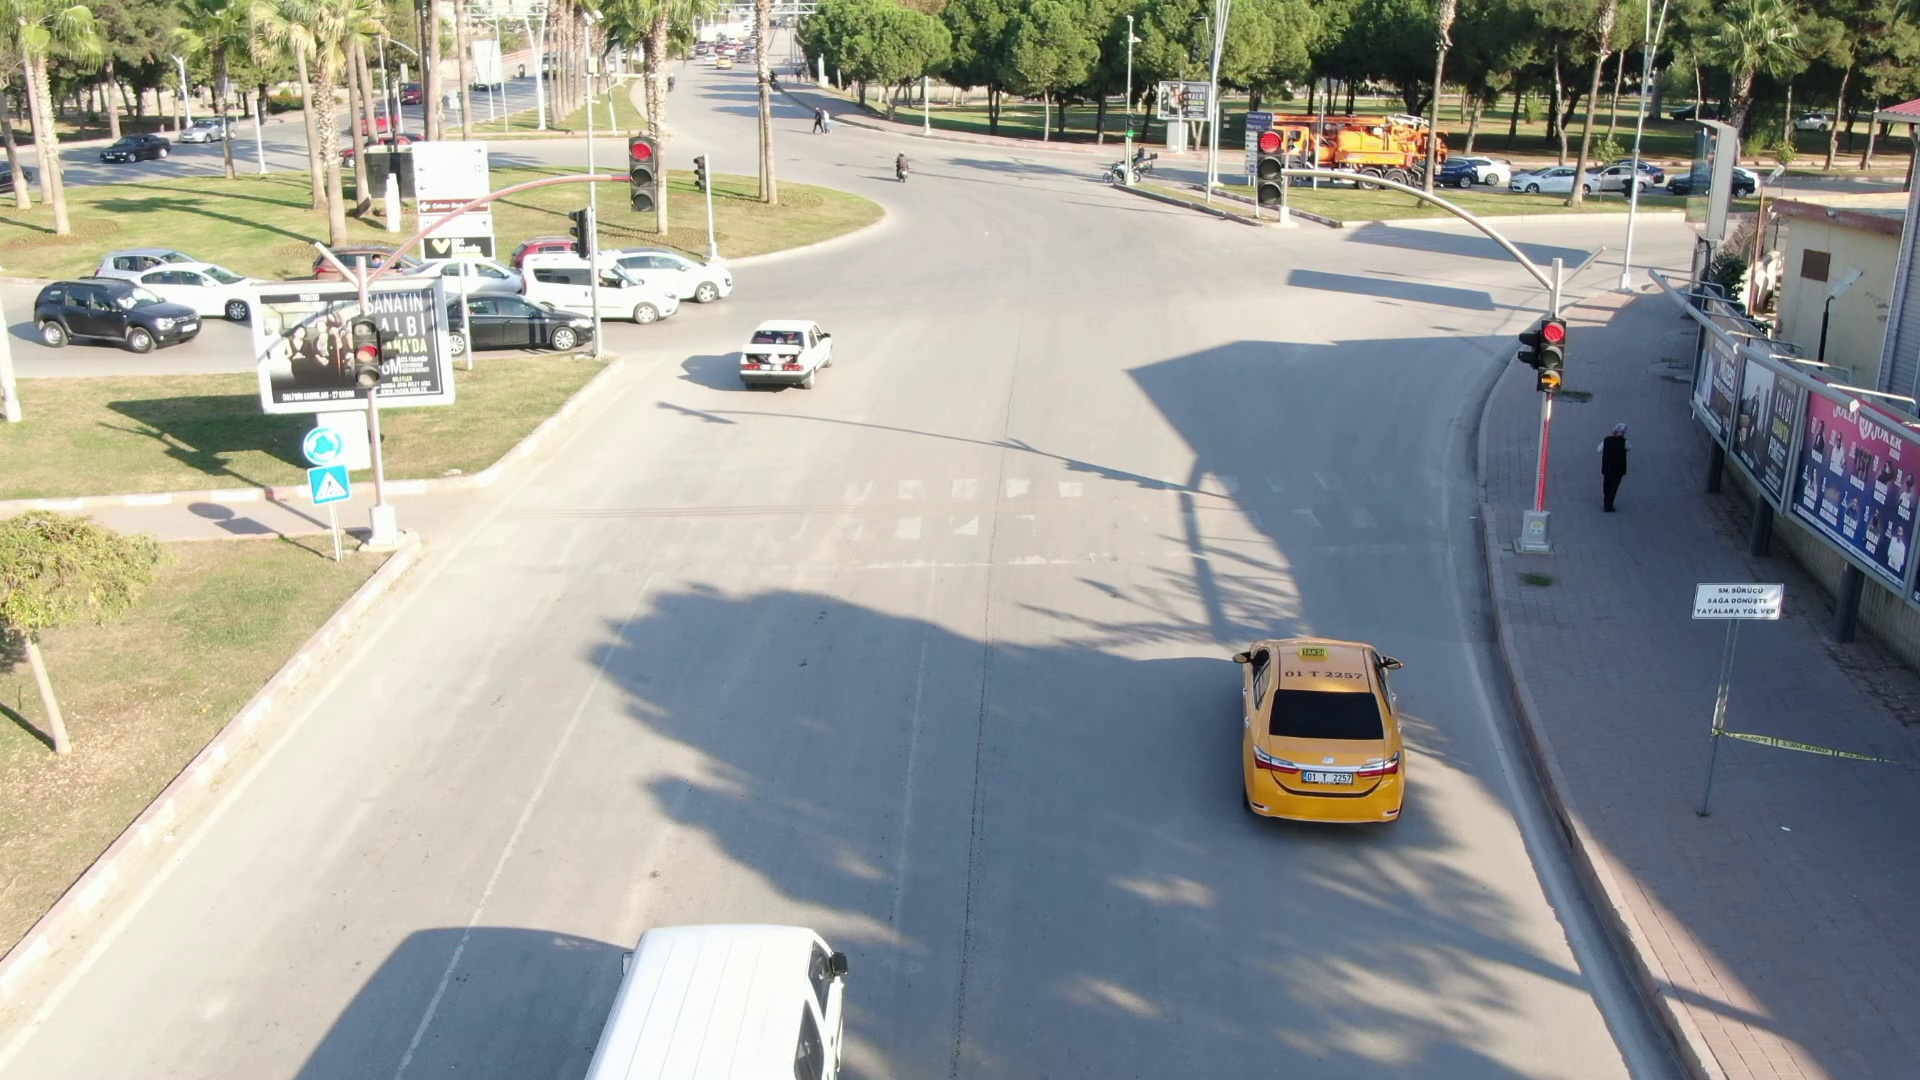car: (1219, 619, 1415, 849), (29, 272, 208, 361), (514, 243, 682, 319), (445, 288, 598, 353), (608, 231, 743, 298), (733, 315, 841, 390)
person: (1590, 410, 1635, 521), (884, 141, 915, 190)
